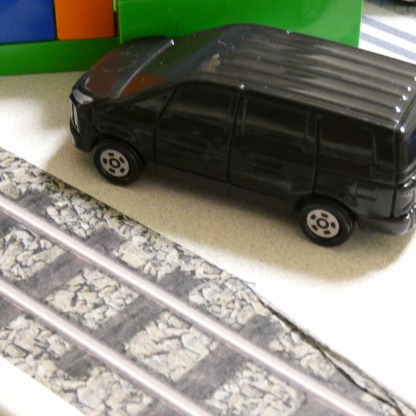car: (66, 21, 415, 249)
